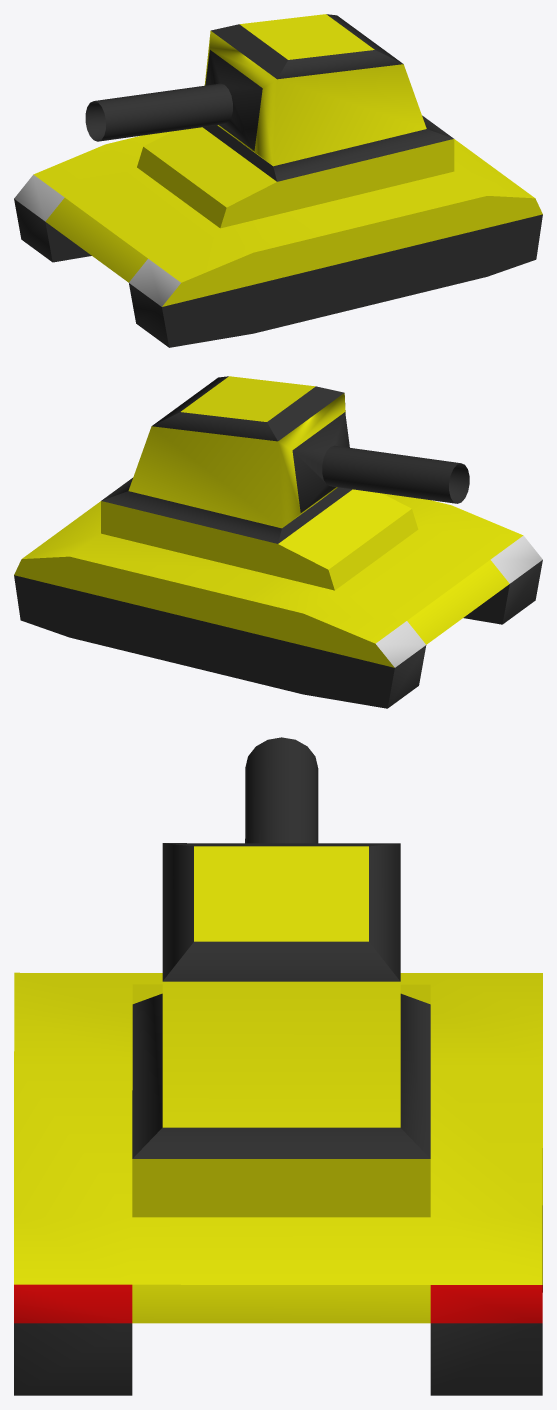
The model's file is WarHeavyYellow.fbx.
3 renders of one model, top to bottom at view 1: azimuth 30°, elevation 25°; view 2: azimuth 150°, elevation 25°; view 3: azimuth 270°, elevation 25°, orthographic. The views are drawn at different scales.
Visible parts, largest first — view 1: pCylinder2; view 2: pCylinder2; view 3: pCylinder2.
Part boxes in pixels (box(x1,y1,x2,y2)): pCylinder2: box(14, 14, 542, 347); pCylinder2: box(14, 376, 542, 708); pCylinder2: box(14, 737, 542, 1395).
Bounding box in the file's own units: 7.47 × 4.05 × 5.02.
